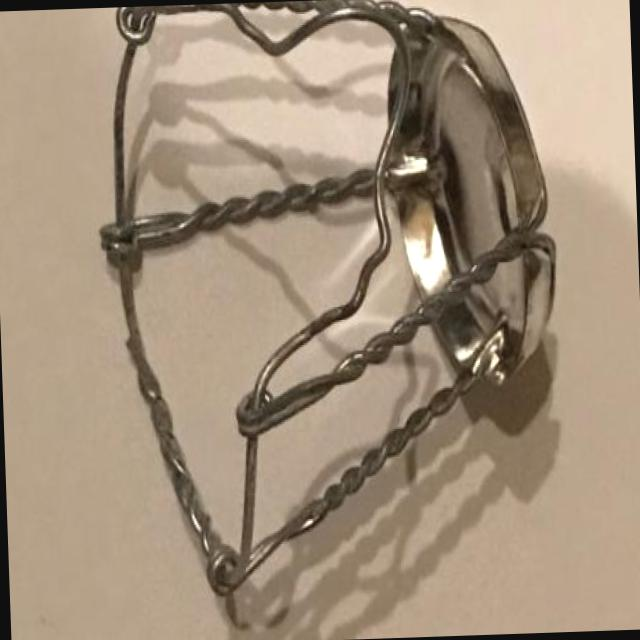nhom: (99, 0, 559, 636)
